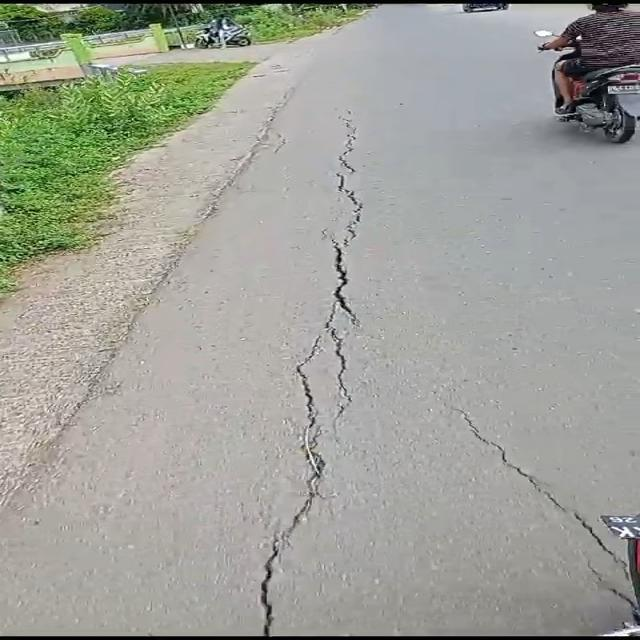Memanjang: (244, 103, 370, 640), (442, 410, 633, 601)
